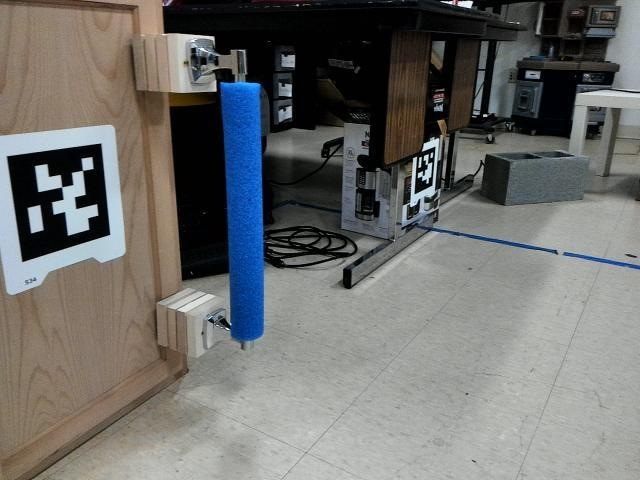noodle_handle: (215, 68, 271, 348)
